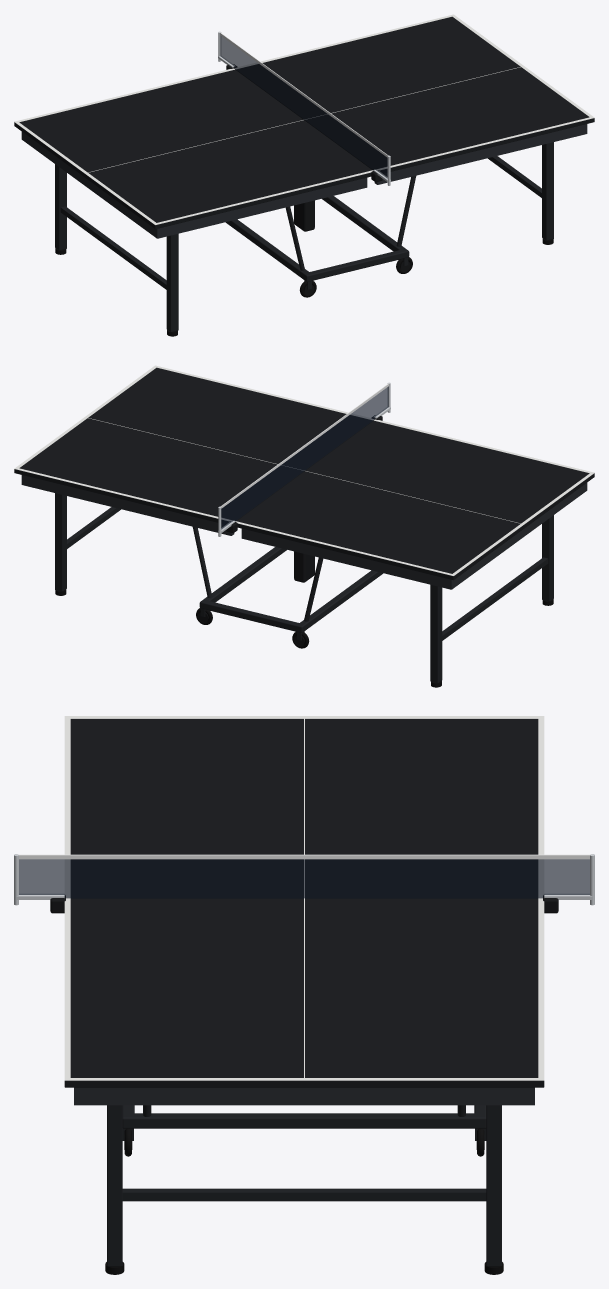
The model's file is platte-competition-schwarz.glb.
3 views of the same model, one above another, from view 1: azimuth 30°, elevation 25°; view 2: azimuth 150°, elevation 25°; view 3: azimuth 270°, elevation 25° (orthographic). The views are drawn at different scales.
Parts seen in each view (by area): view 1: Platte (×2), Hälfte A, Beine (×2), Netz, Hälfte B, Fahrwerk, Tischtennisplatte; view 2: Platte (×2), Hälfte A, Beine (×2), Netz, Hälfte B, Fahrwerk, Tischtennisplatte; view 3: Platte (×2), Netz, Hälfte B, Beine, Fahrwerk, Hälfte A.
Boxes of the visible parts, x1,y1,x2,y2 form: Platte (×2): (14, 16, 594, 229); Hälfte A: (14, 68, 373, 238); Beine (×2): (55, 142, 553, 336); Netz: (218, 31, 390, 185); Hälfte B: (235, 14, 594, 184); Fahrwerk: (225, 196, 412, 297); Tischtennisplatte: (285, 176, 416, 270); Platte (×2): (14, 367, 594, 580); Hälfte A: (235, 419, 594, 589); Beine (×2): (55, 493, 553, 687); Netz: (218, 382, 390, 536); Hälfte B: (14, 365, 373, 535); Fahrwerk: (196, 547, 383, 648); Tischtennisplatte: (192, 527, 323, 621); Platte (×2): (64, 719, 544, 1087); Netz: (14, 854, 594, 913); Hälfte B: (64, 898, 544, 1105); Beine: (105, 1105, 503, 1274); Fahrwerk: (122, 1105, 486, 1156); Hälfte A: (64, 716, 544, 897).
Size of the model in its own units: 2.74 by 0.9125 by 1.85.
